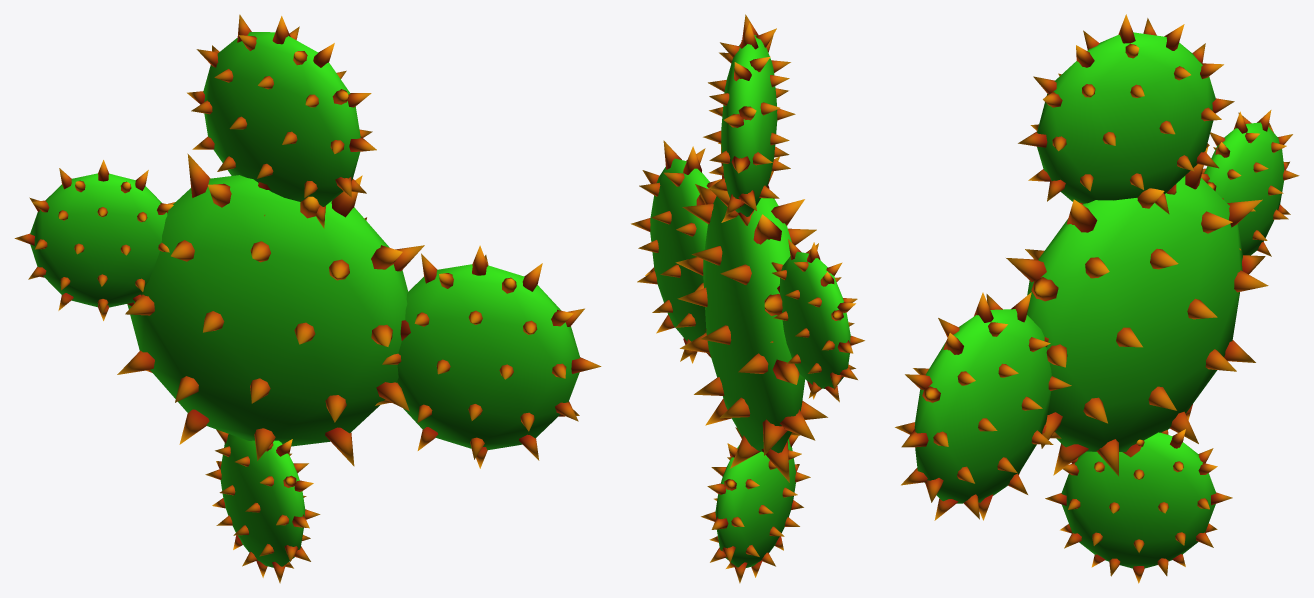
The model's file is Vera_3D-Model_Cactus_C_UP.fbx.
3 views of the same model, side by side, from view 1: azimuth 30°, elevation 25°; view 2: azimuth 150°, elevation 25°; view 3: azimuth 270°, elevation 25° (orthographic). The views are drawn at different scales.
Parts seen in each view (by area): view 1: Icosphere.006; view 2: Icosphere.006; view 3: Icosphere.006.
Boxes of the visible parts, left/top/right/bottom form: Icosphere.006: left=14, top=14, right=601, bottom=583; Icosphere.006: left=631, top=14, right=864, bottom=583; Icosphere.006: left=895, top=14, right=1299, bottom=583.
Bounding box in the file's own units: 304 × 412 × 263.
Materials: 1 (1 with a texture image).
